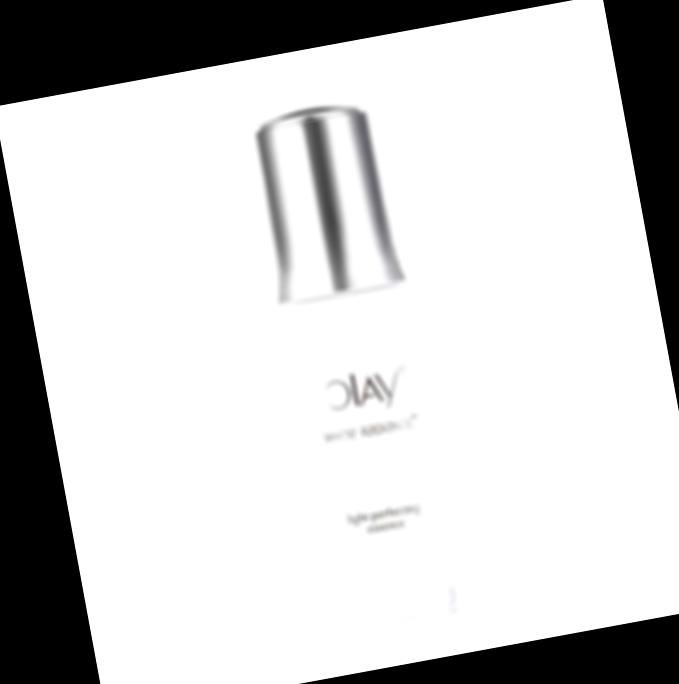cosmetic: (242, 95, 466, 626)
